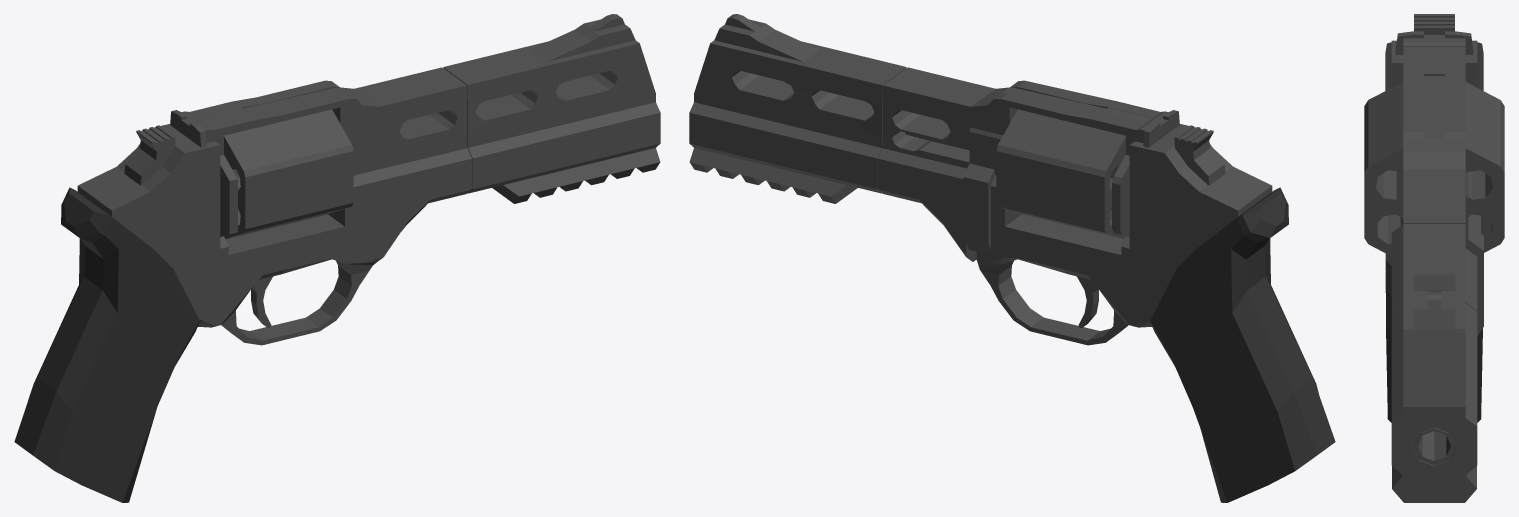
Rendered from Chiappa Rhino.fbx.
3 views of the same model, side by side, from view 1: azimuth 30°, elevation 25°; view 2: azimuth 150°, elevation 25°; view 3: azimuth 270°, elevation 25° (orthographic). The views are drawn at different scales.
Parts seen in each view (by area): view 1: Base, Cylinder, Hammer; view 2: Base, Cylinder, Ejector, Hammer; view 3: Base, Cylinder, Ejector, Hammer.
Boxes of the visible parts, box(x1,y1,x2,y2) form: Base: box(14, 14, 660, 502); Cylinder: box(224, 109, 353, 239); Hammer: box(124, 125, 175, 185); Base: box(689, 14, 1335, 502); Cylinder: box(996, 109, 1125, 239); Ejector: box(905, 127, 1002, 254); Hammer: box(1174, 125, 1225, 185); Base: box(1369, 31, 1483, 502); Cylinder: box(1364, 82, 1504, 256); Ejector: box(1465, 172, 1483, 336); Hammer: box(1414, 14, 1454, 34).
Size of the model in its own units: 84.79 by 46.99 by 13.26.
